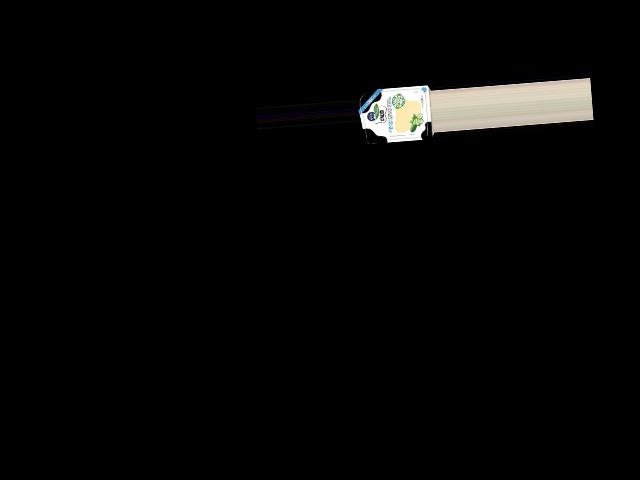cheese: (357, 81, 435, 147)
